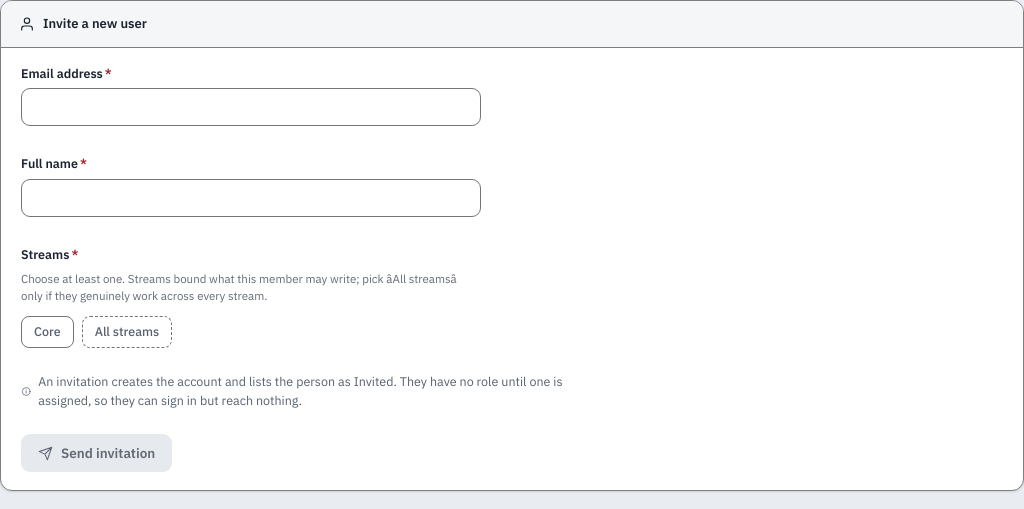
Test: InviteUserPanel (FR-156 / AC-088) › reveals the temporary password ONCE and replaces the form
Type "new@acmp.gov" into the field labelled "Email address*".
click(251, 107); type("new@acmp.gov")  # box x1=21 y1=88 x2=481 y2=126
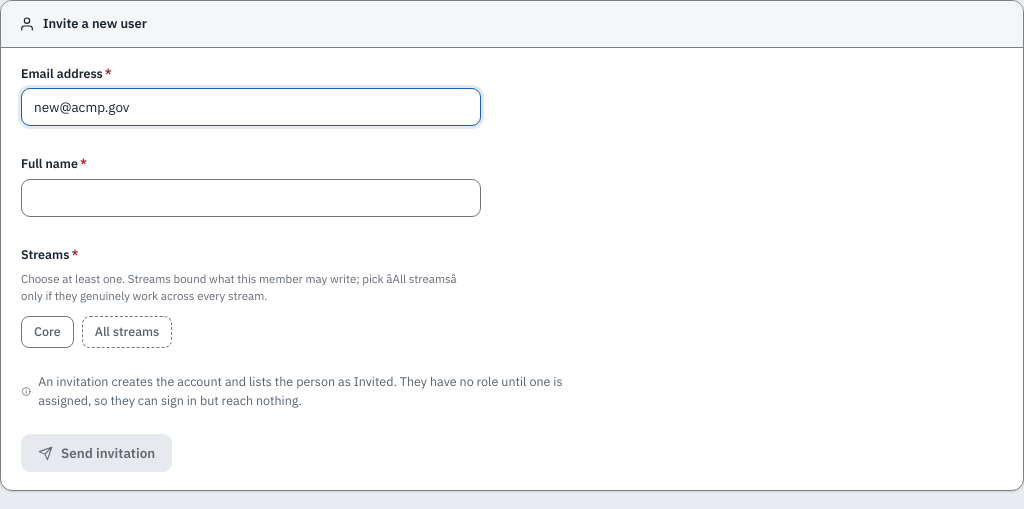
Type "New Person" into the field labelled "Full name*".
click(251, 198); type("New Person")  # box x1=21 y1=179 x2=481 y2=217
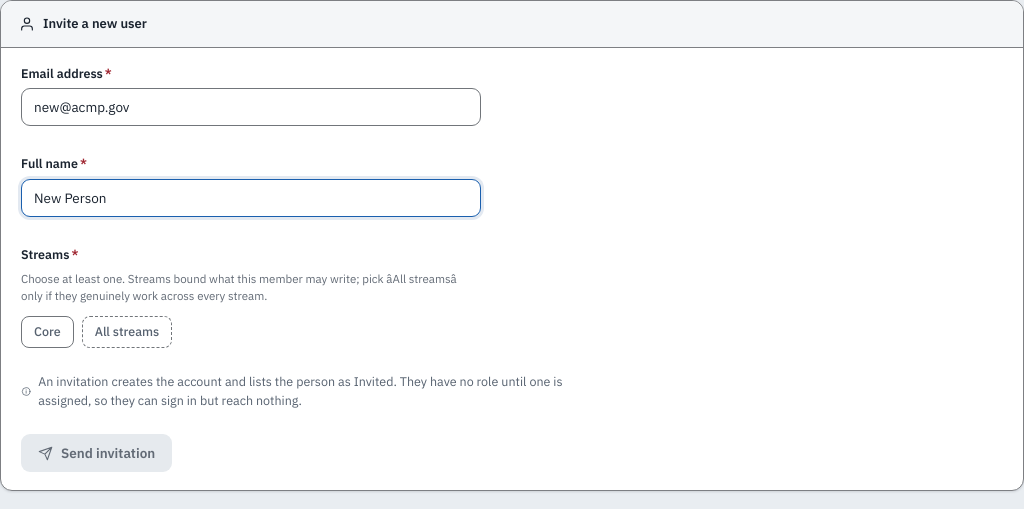
Click the button "Core".
click(47, 332)  # box x1=21 y1=316 x2=74 y2=348
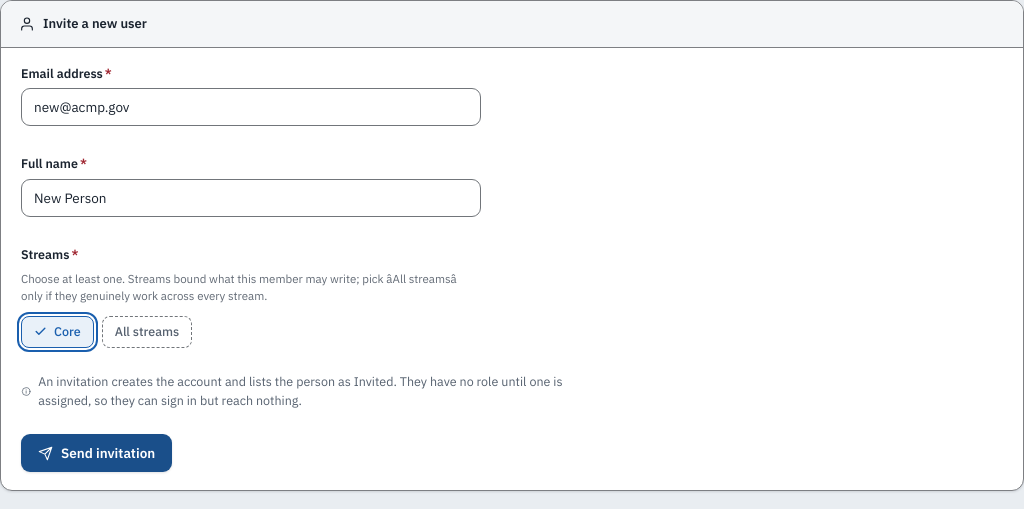
Click the button "Send invitation".
click(97, 453)  # box x1=21 y1=434 x2=172 y2=472
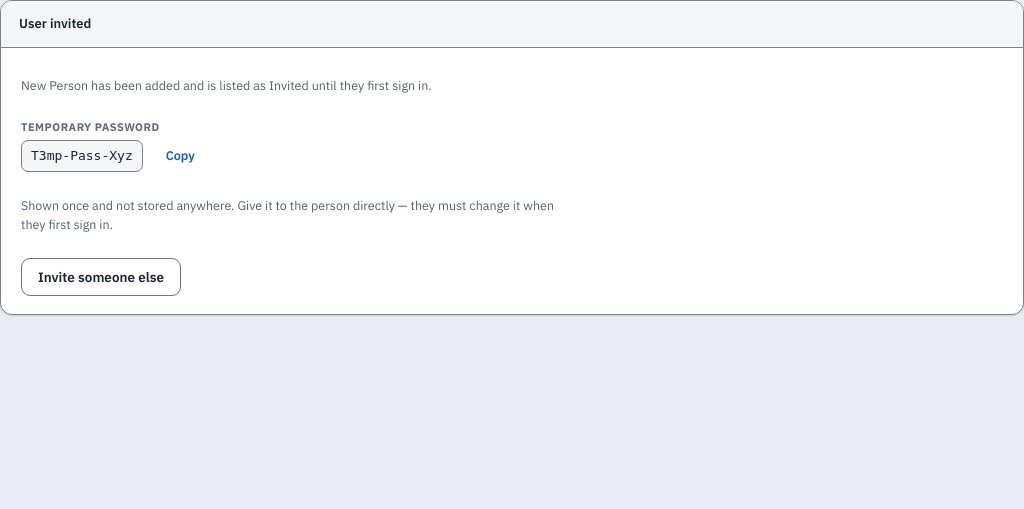
Now the text "T3mp-Pass-Xyz" is shown, box x1=21 y1=140 x2=143 y2=172
Now the label labelled "Email address" is gone
